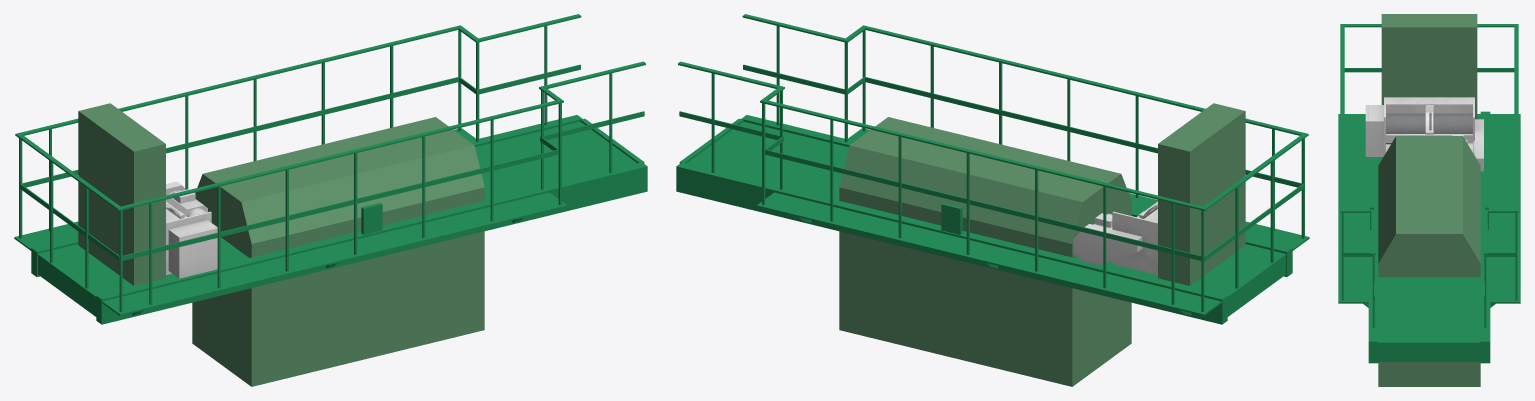
The model's file is towerCrane_counterweight.FBX.
3 views of the same model, side by side, from view 1: azimuth 30°, elevation 25°; view 2: azimuth 150°, elevation 25°; view 3: azimuth 270°, elevation 25° (orthographic). The views are drawn at different scales.
Visible parts, largest first — view 1: towerCrane_counterweight; view 2: towerCrane_counterweight; view 3: towerCrane_counterweight.
Part boxes in pixels (<box>): towerCrane_counterweight: <box>14,14,647,386</box>; towerCrane_counterweight: <box>676,14,1309,386</box>; towerCrane_counterweight: <box>1338,14,1520,386</box>.
Size of the model in its own units: 683 by 312 by 228.
